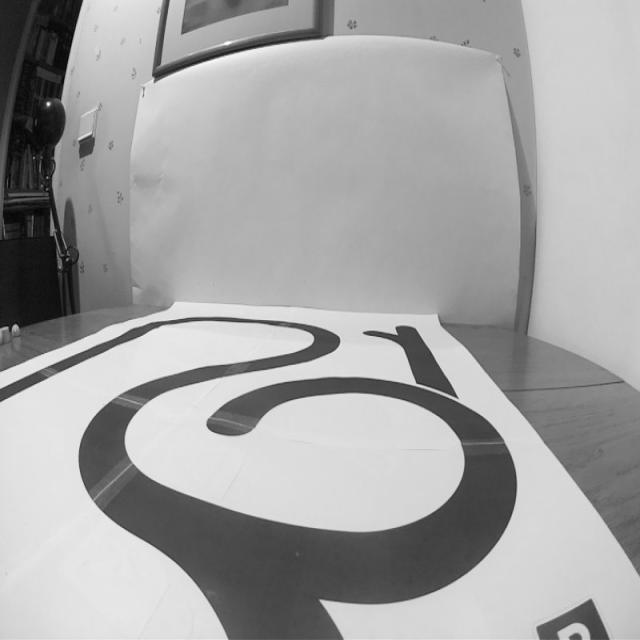laneLeftTurn: (70, 476, 318, 640)
